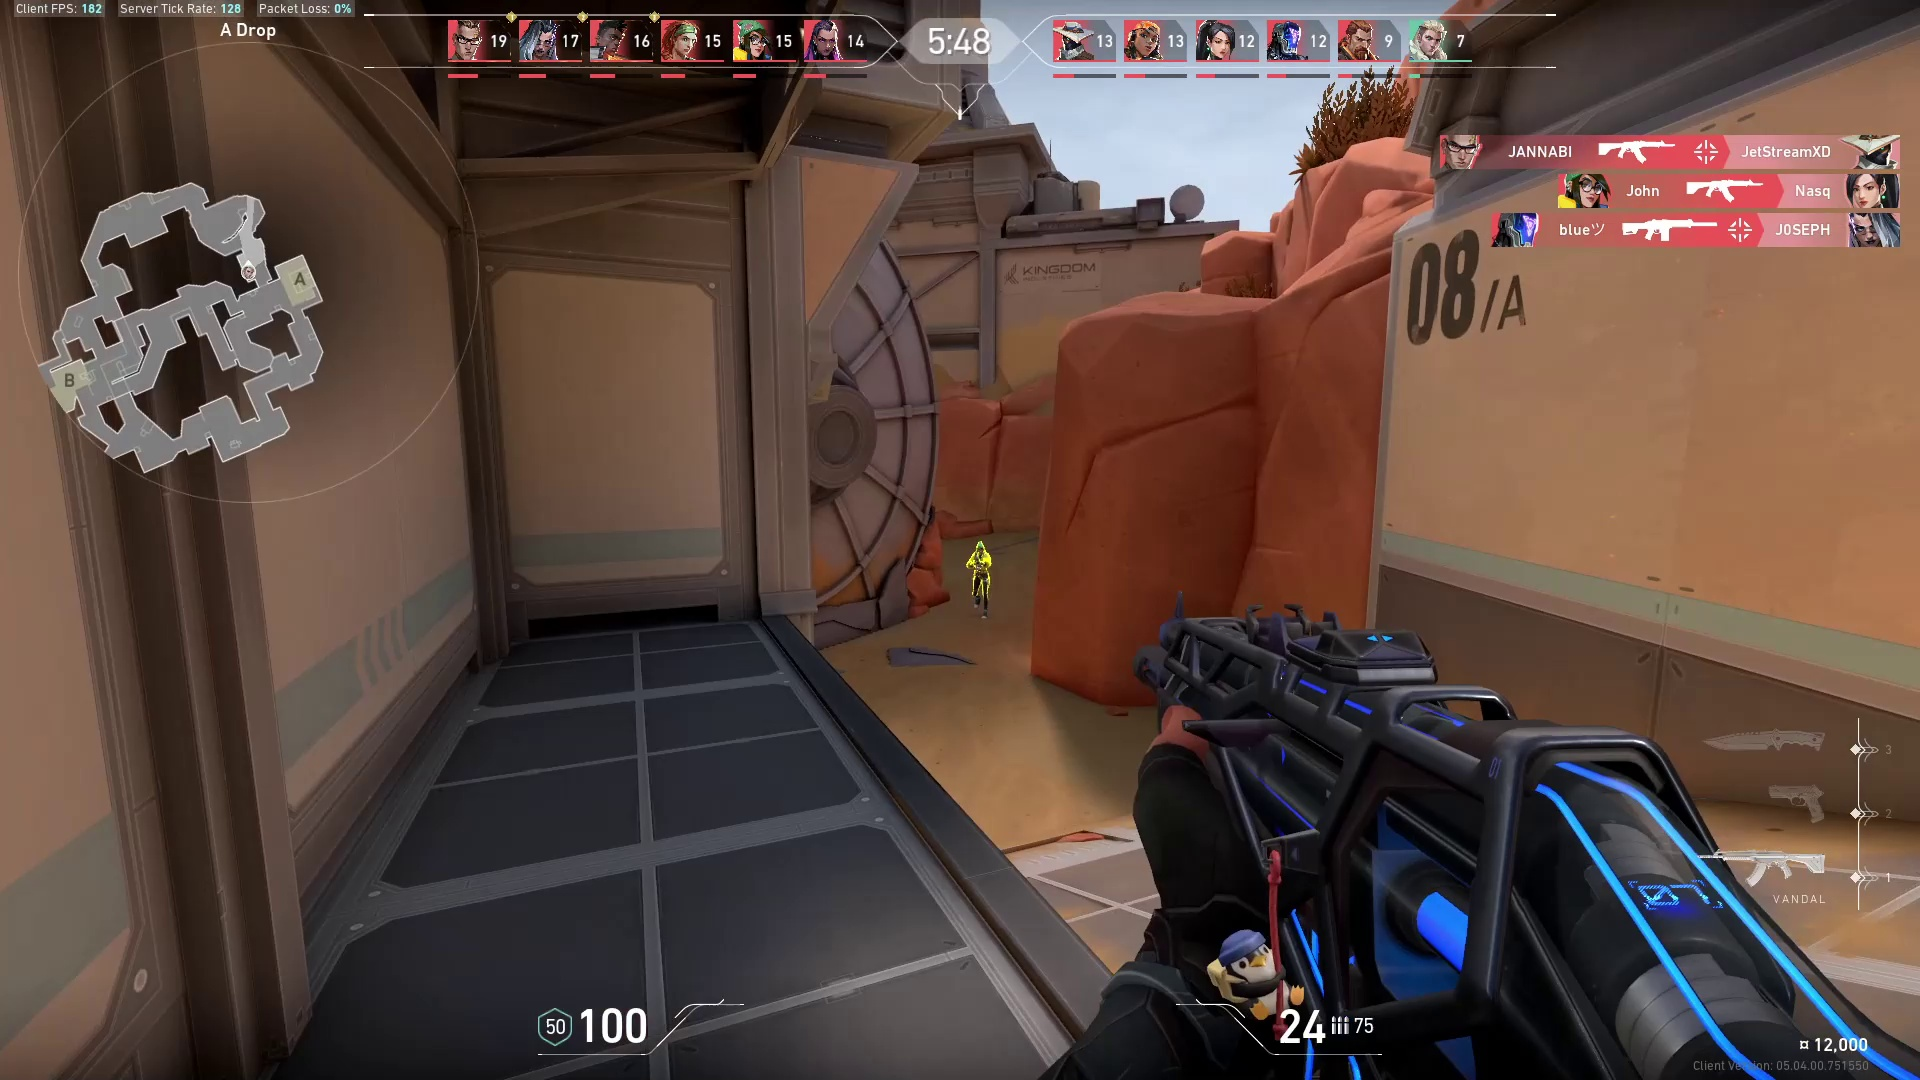enemy_body: (964, 555, 997, 620)
enemy_head: (973, 538, 986, 556)
